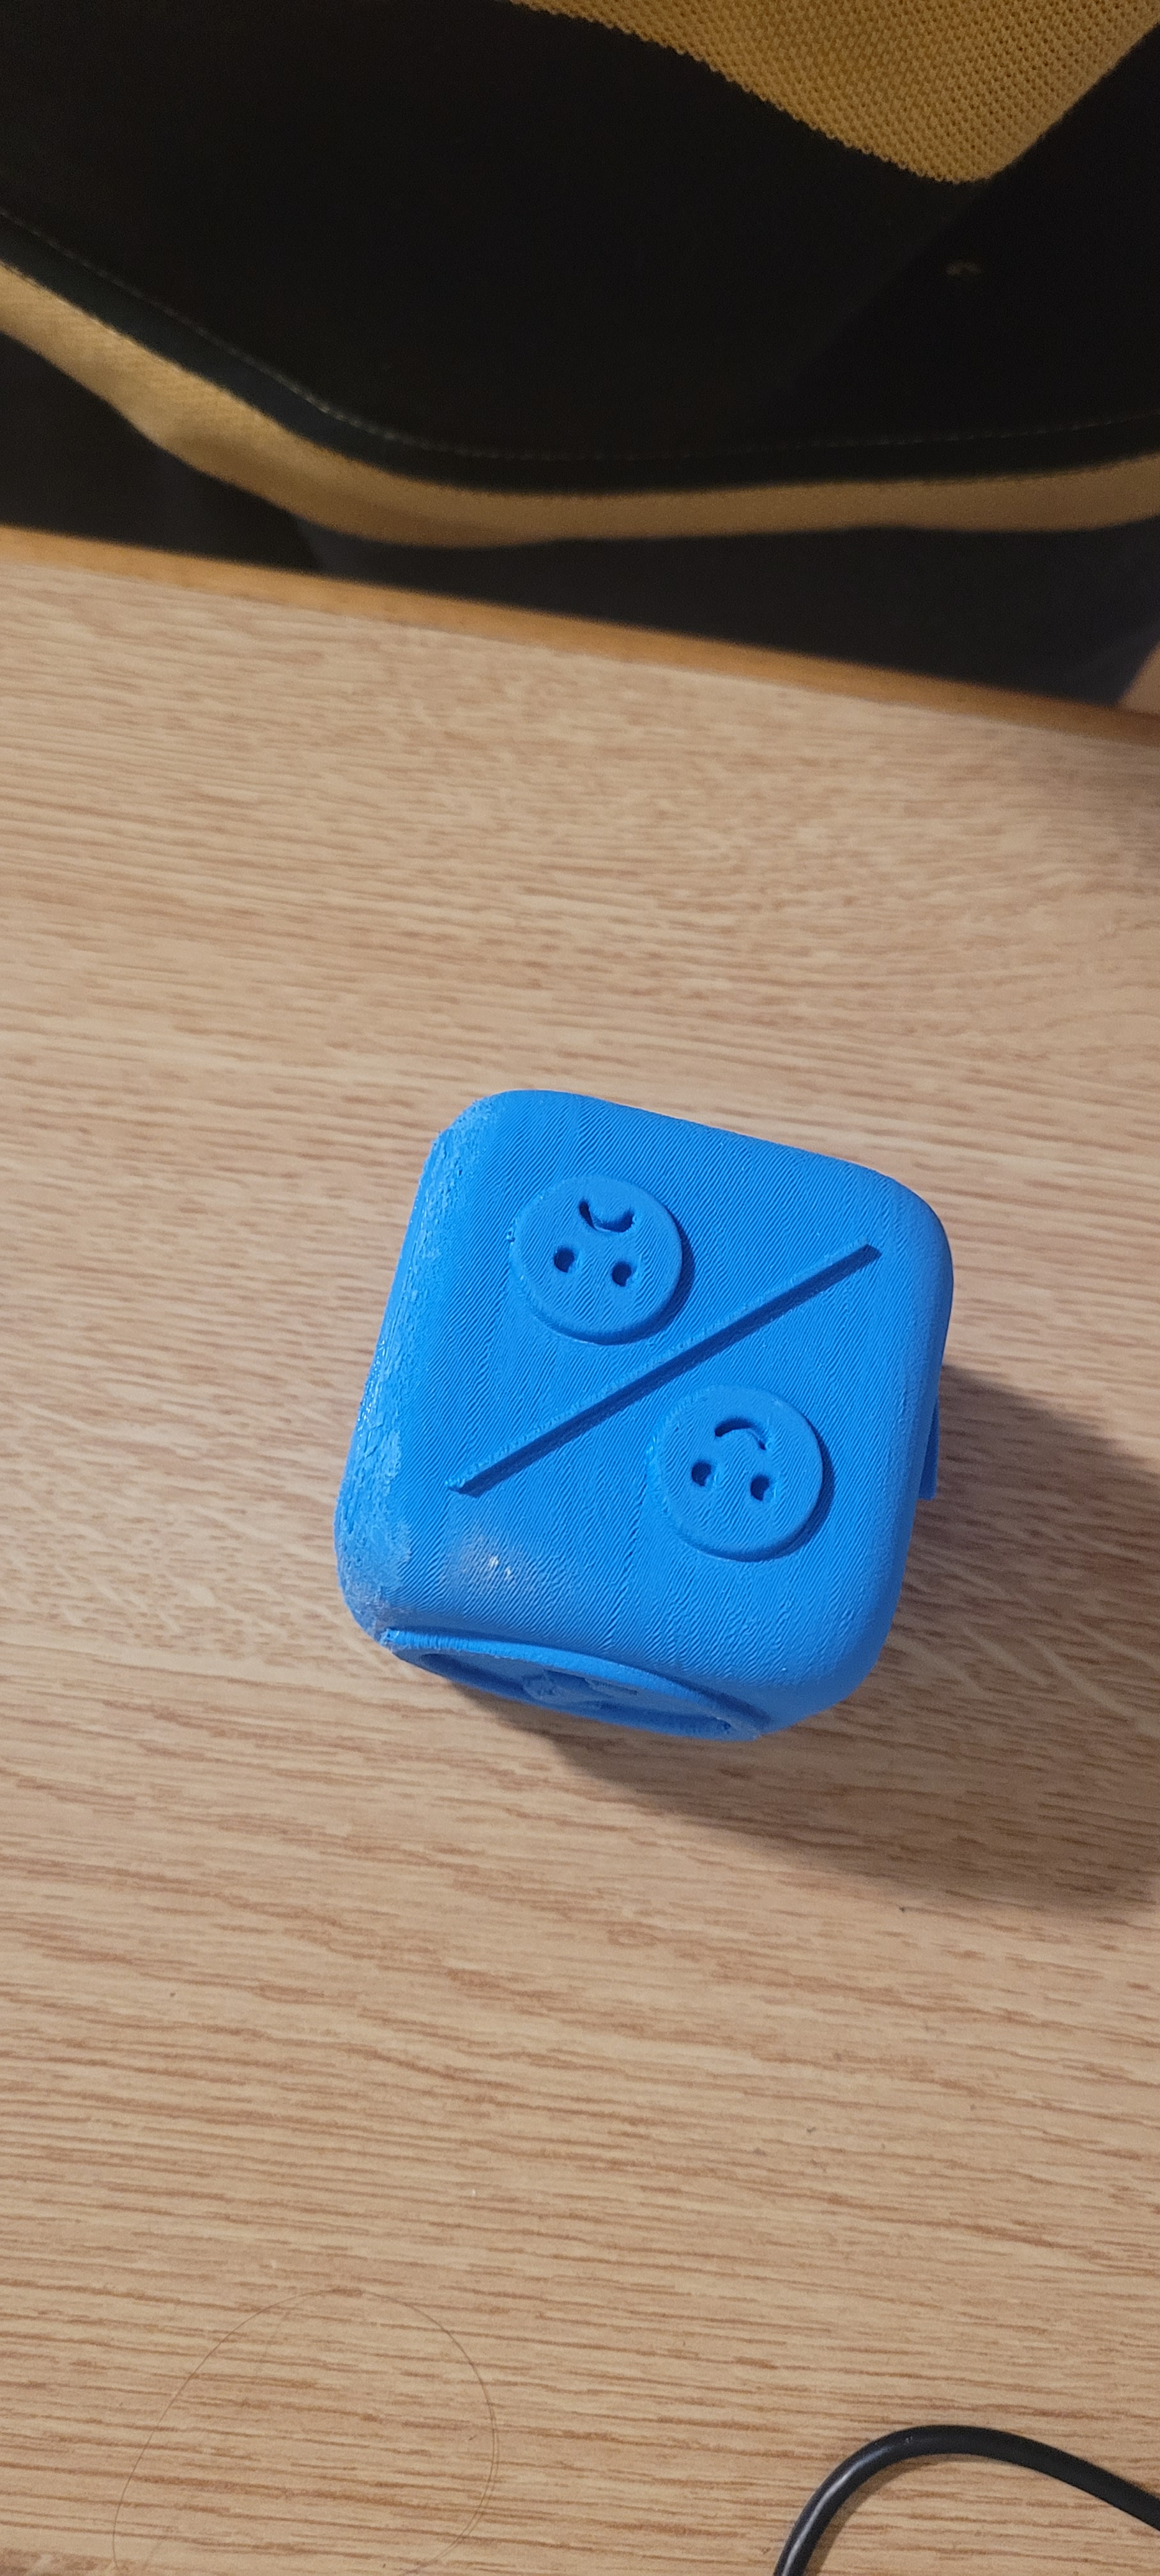Like/Dislike: (389, 1063, 937, 1659)
